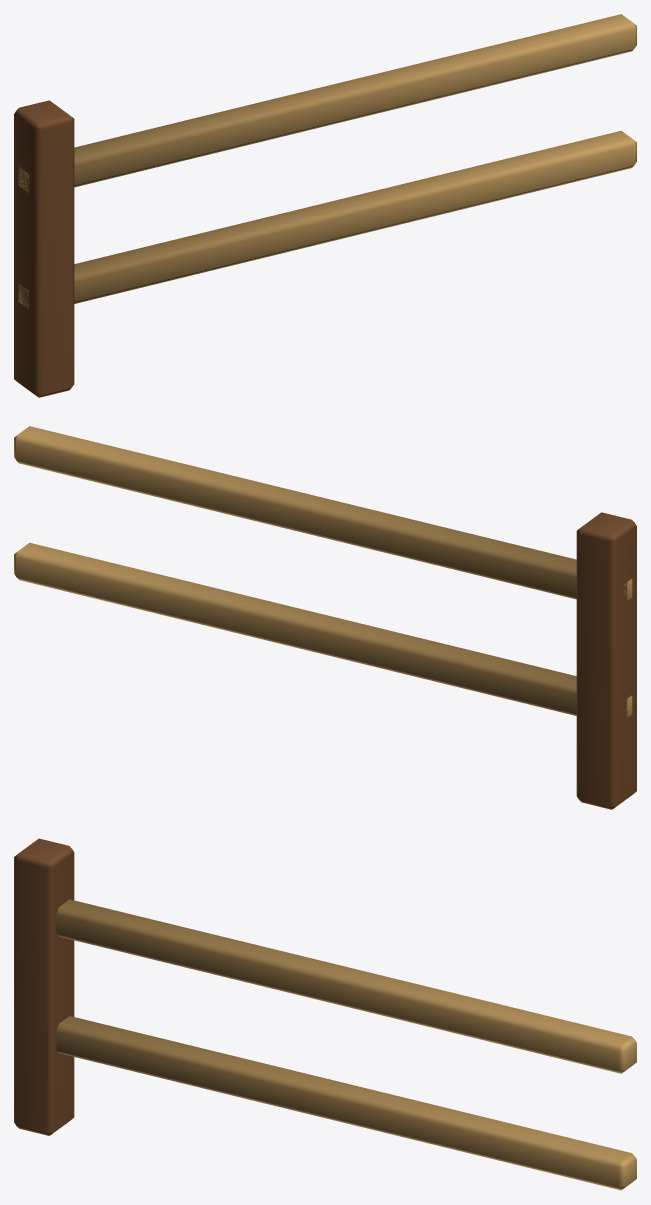
Rendered from fence.glb.
3 renders of one model, top to bottom at view 1: azimuth 30°, elevation 25°; view 2: azimuth 150°, elevation 25°; view 3: azimuth 330°, elevation 25°, orthographic.
Visible parts, largest first — view 1: fence; view 2: fence; view 3: fence.
Boxes of the visible parts, x1=… form: fence: x1=14, y1=14, x2=636, y2=397; fence: x1=14, y1=426, x2=636, y2=809; fence: x1=14, y1=838, x2=636, y2=1190.
Size of the model in its own units: 3 by 1.3 by 0.22.
